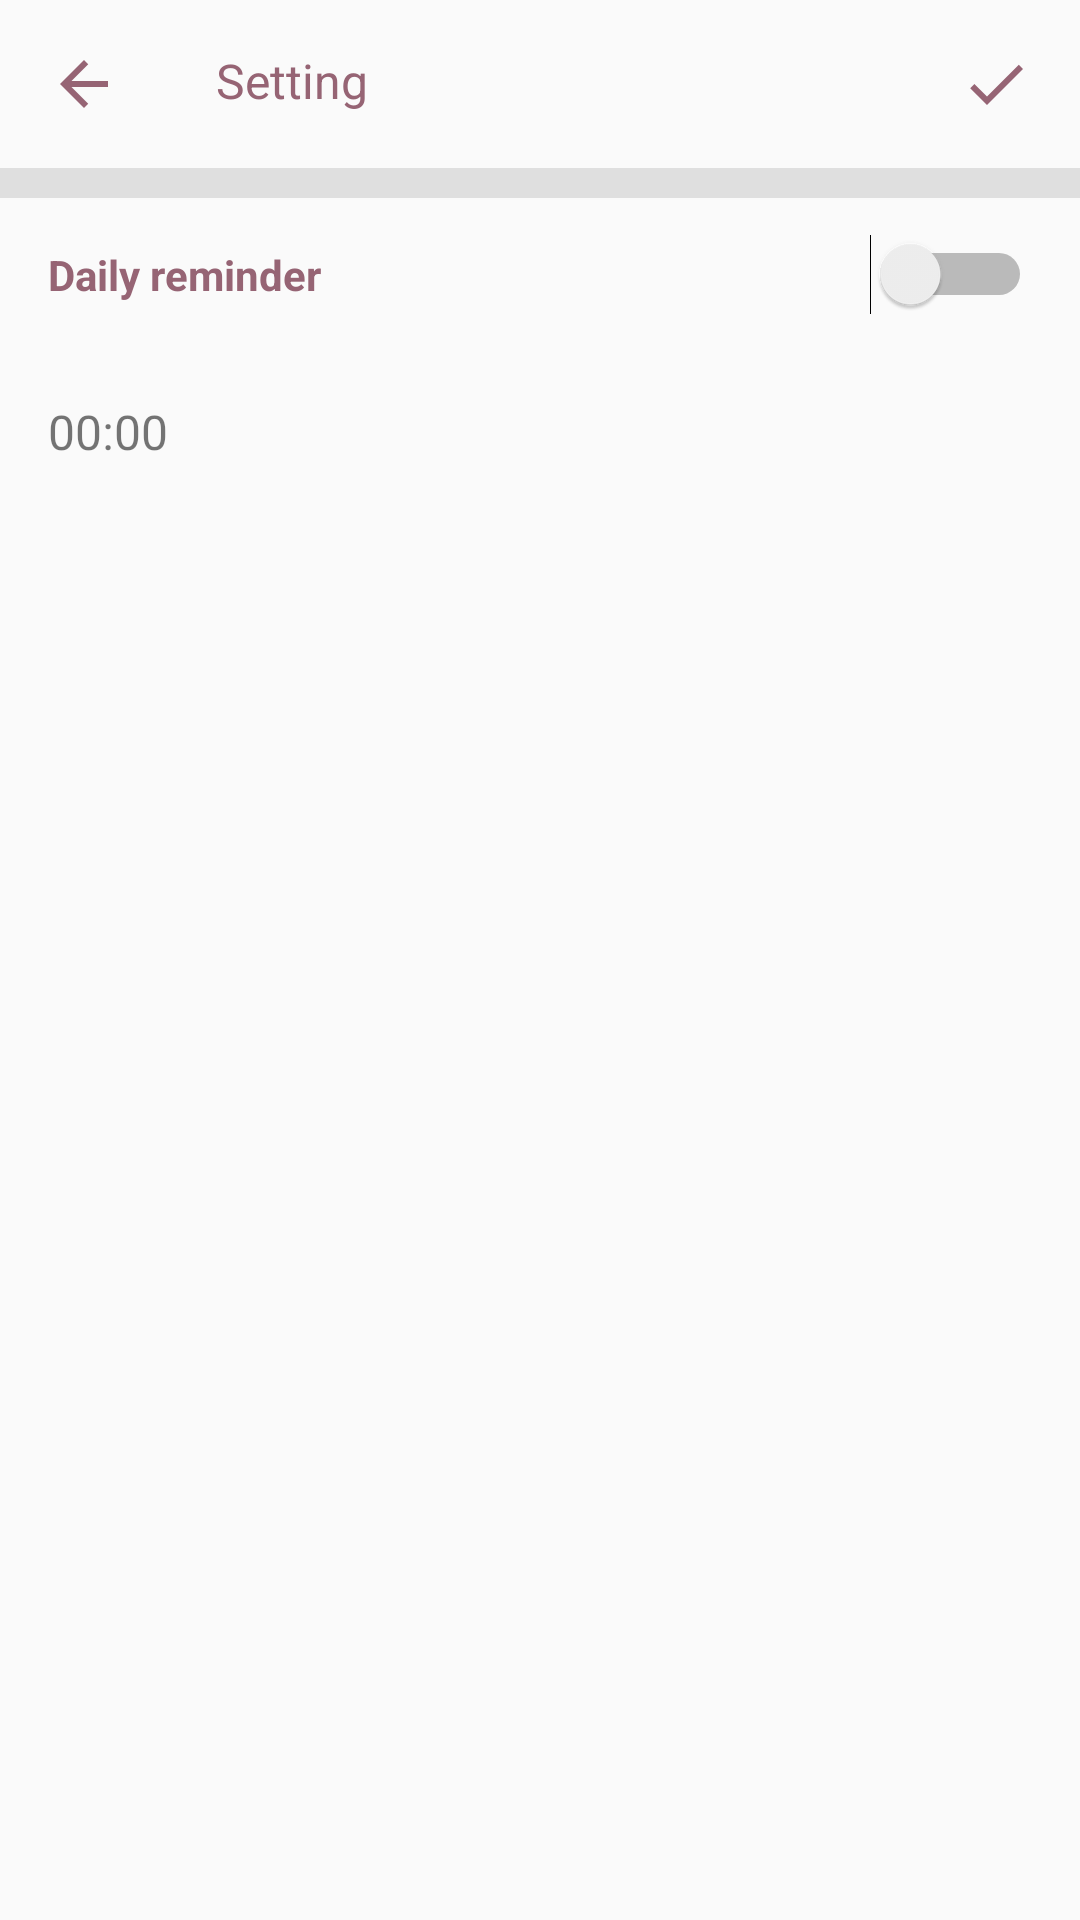

Icons on this 1080 x 1920 Android screen, each with its box as (x1, y1, x2, y2):
arrow back: (60, 60, 108, 108)
done: (970, 65, 1023, 105)
